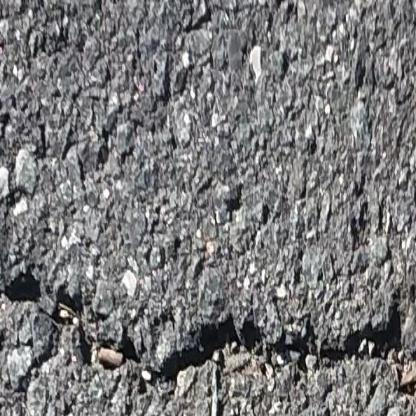Cracks: (144, 299, 416, 400), (48, 279, 147, 375), (0, 267, 47, 340)
